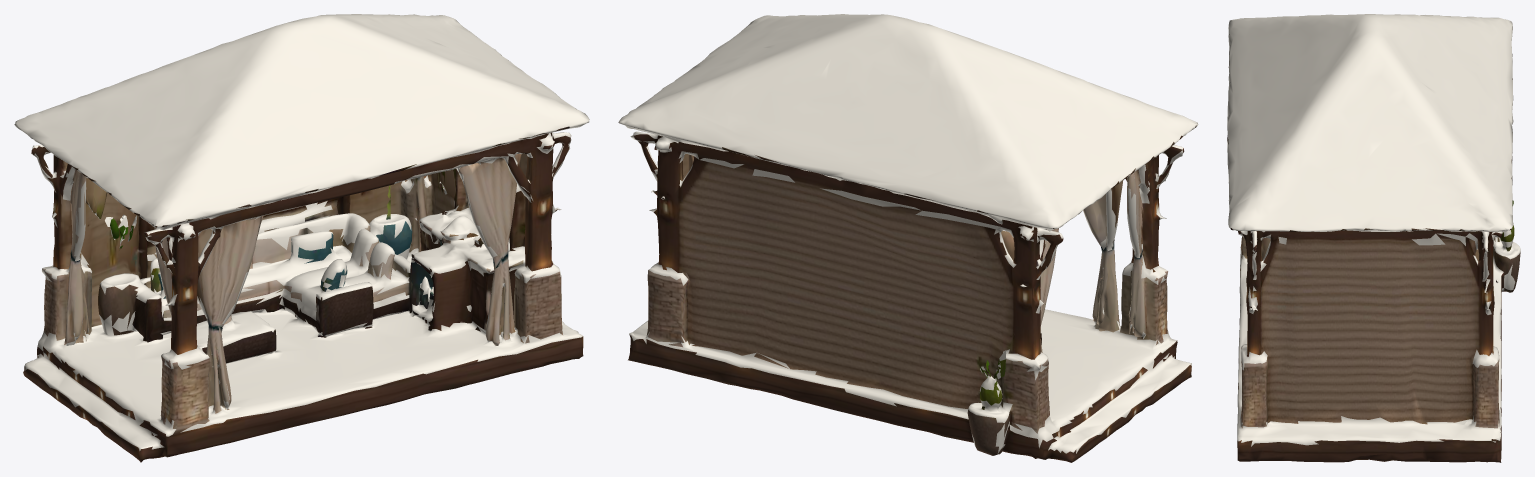
Rendered from cabana-tripo.glb.
The picture shows the model from 3 angles, left to right: view 1: azimuth 30°, elevation 25°; view 2: azimuth 150°, elevation 25°; view 3: azimuth 270°, elevation 25°; orthographic projection. The views are drawn at different scales.
Parts seen in each view (by area): view 1: CabanaTripoOptimized; view 2: CabanaTripoOptimized; view 3: CabanaTripoOptimized.
Boxes of the visible parts, x1,y1,x2,y2 form: CabanaTripoOptimized: (14,14,589,462); CabanaTripoOptimized: (618,14,1198,462); CabanaTripoOptimized: (1227,14,1520,462).
Bounding box in the file's own units: 4.8 × 3.55 × 2.8.
Materials: 2 (1 with a texture image).
